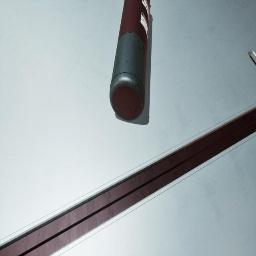NitrogenTank ,: (110, 0, 150, 121)
